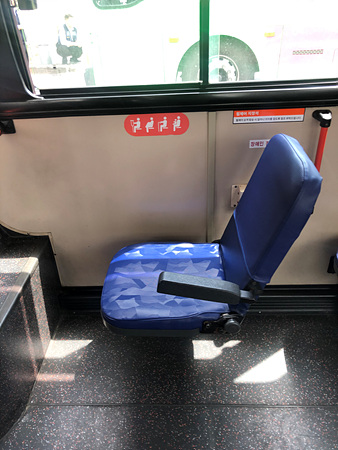seat: (104, 135, 319, 339)
